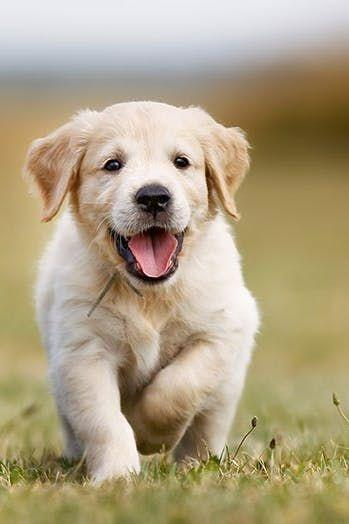puppy-dog: (21, 99, 262, 488)
